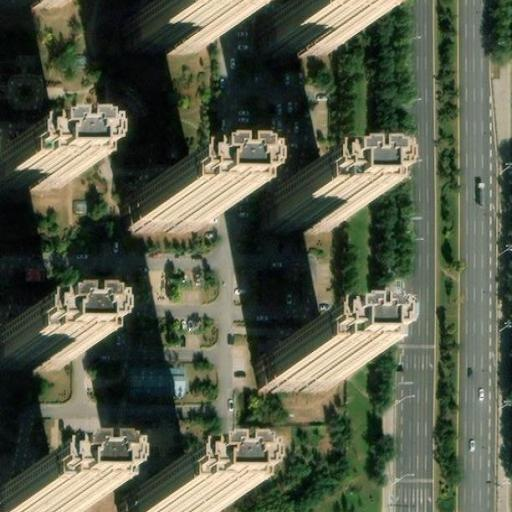building: (263, 6, 340, 53), (129, 7, 208, 50), (133, 182, 210, 225), (267, 185, 342, 228), (267, 343, 342, 385), (0, 143, 64, 187), (125, 483, 207, 512), (0, 483, 75, 512), (121, 366, 183, 398), (0, 77, 36, 112)
